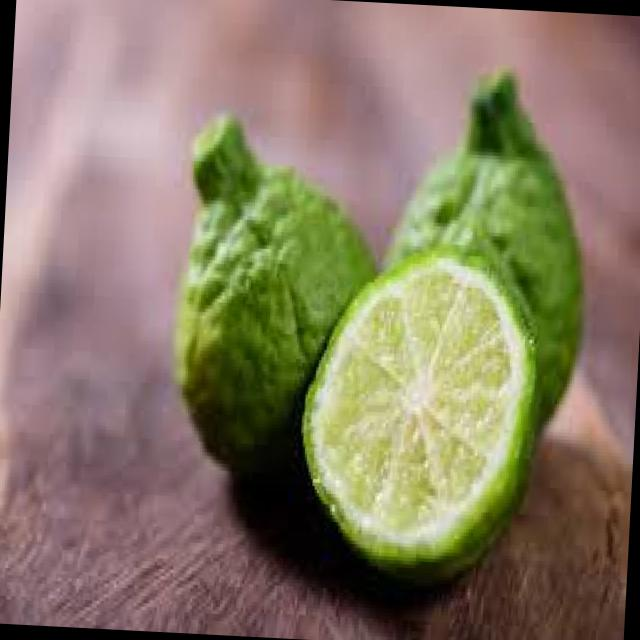Chuc: (291, 234, 547, 588), (372, 59, 598, 437), (164, 109, 385, 488)
